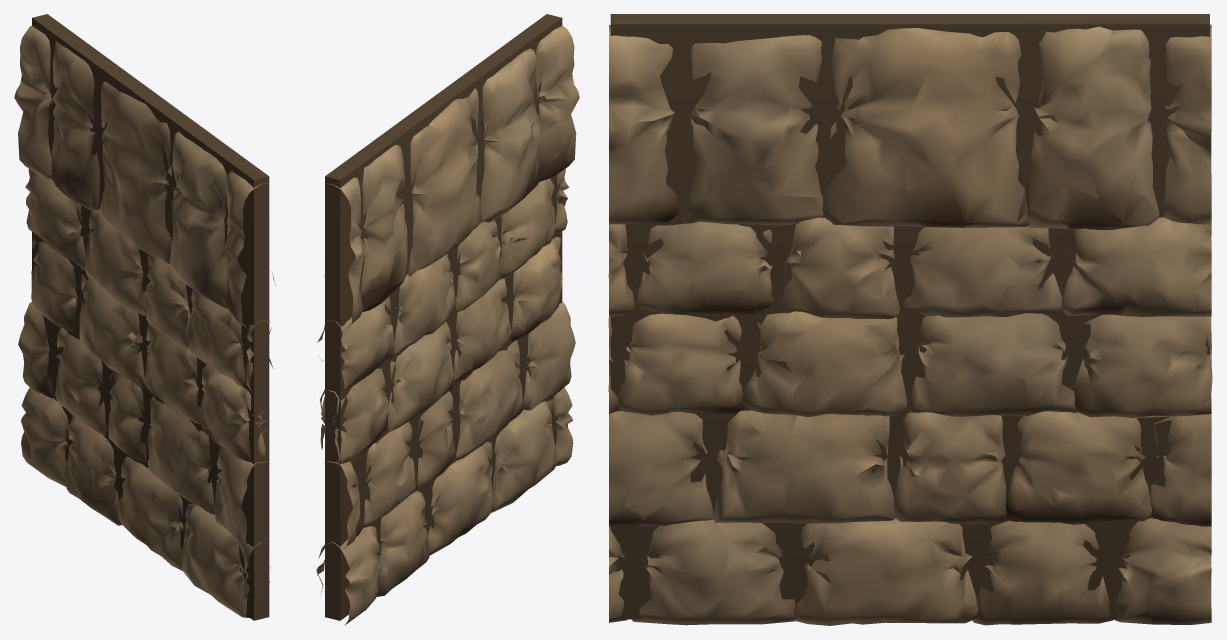
Rendered from canopy_sack_wall_lod1.glb.
The picture shows the model from 3 angles, left to right: view 1: azimuth 30°, elevation 25°; view 2: azimuth 150°, elevation 25°; view 3: azimuth 270°, elevation 25°; orthographic projection. The views are drawn at different scales.
Visible parts, largest first — view 1: canopy_sack_wall.001; view 2: canopy_sack_wall.001; view 3: canopy_sack_wall.001.
Part boxes in pixels (left/top/right/bottom): canopy_sack_wall.001: left=14, top=14, right=275, bottom=620; canopy_sack_wall.001: left=316, top=14, right=579, bottom=625; canopy_sack_wall.001: left=608, top=14, right=1212, bottom=625.
Size of the model in its own units: 5.63 by 44.06 by 40.11.
